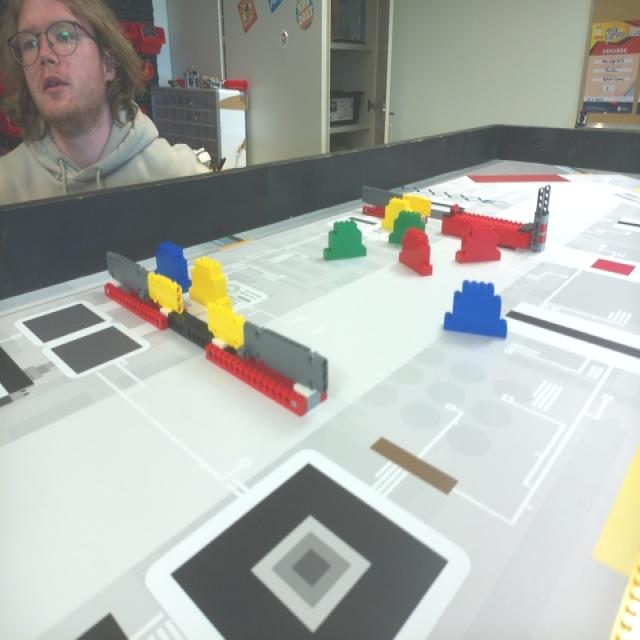blau: (444, 280, 508, 340), (154, 242, 190, 289)
gruen: (324, 220, 368, 262), (390, 212, 422, 242)
rot: (456, 220, 502, 265), (401, 230, 434, 278)
yellow: (190, 258, 233, 308), (382, 200, 411, 232)
